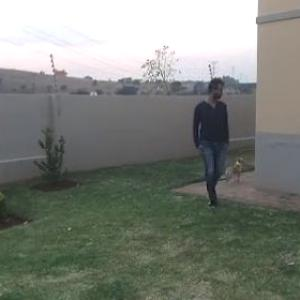follow: (194, 75, 234, 210)
